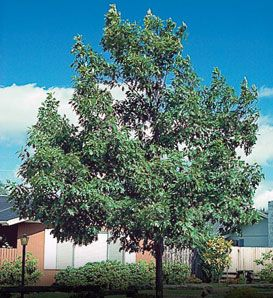tree: (3, 2, 265, 297)
